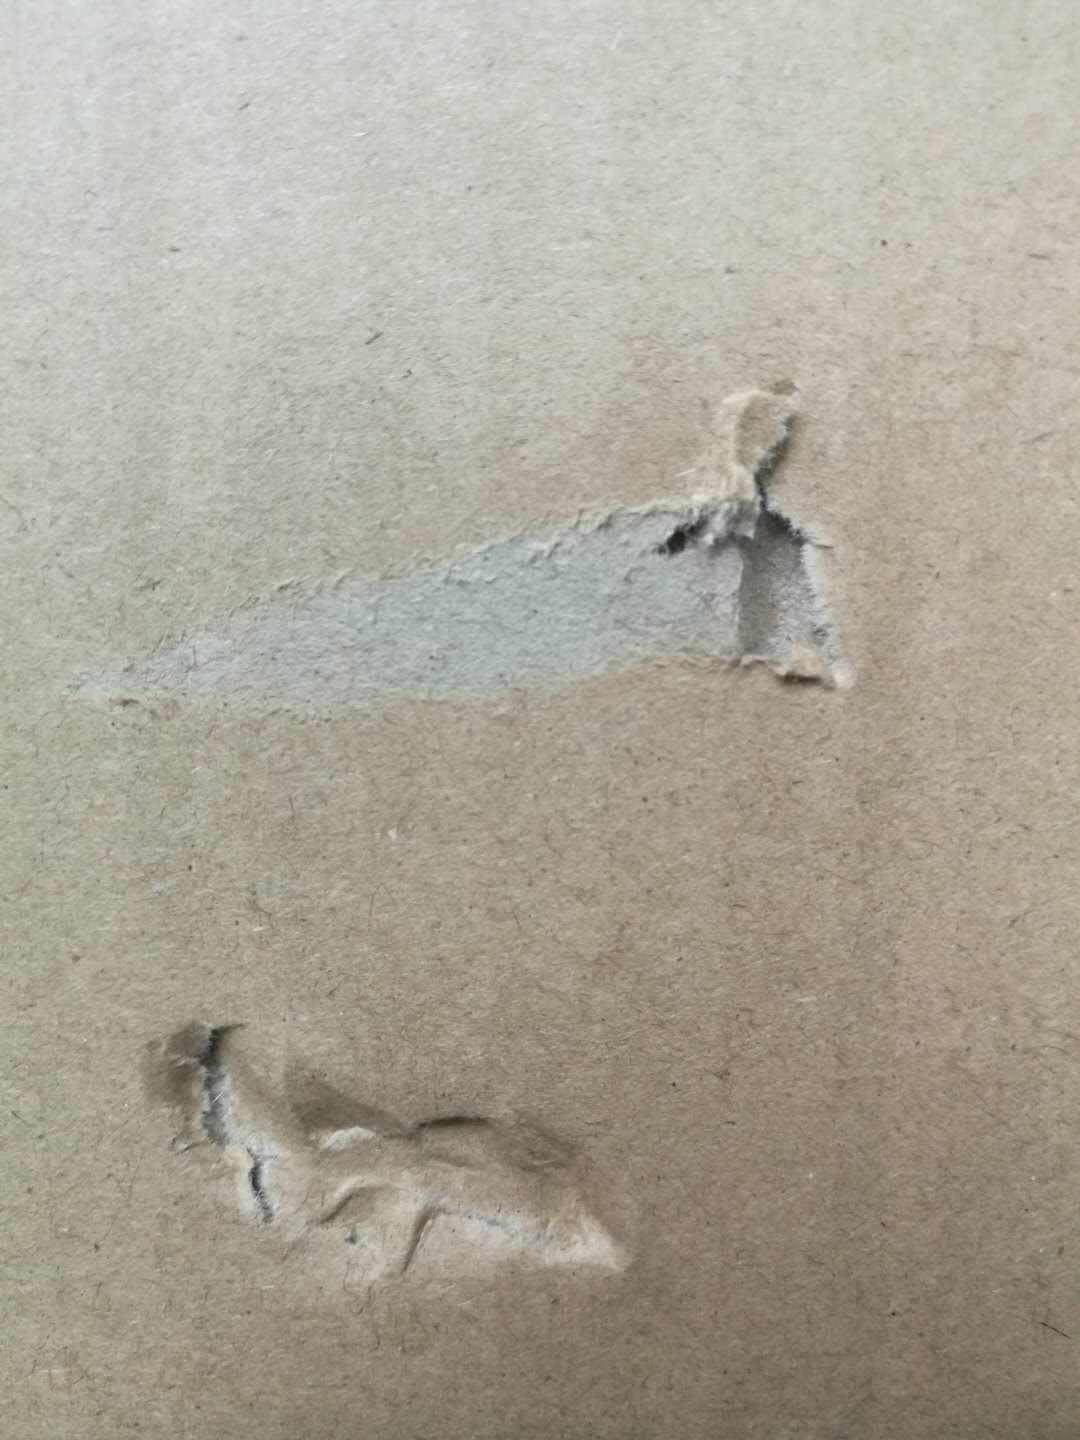defect: (49, 358, 900, 747), (128, 996, 652, 1310)
